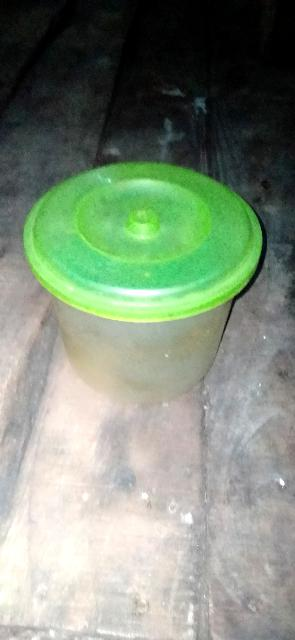hardplastic: (12, 123, 281, 418)
